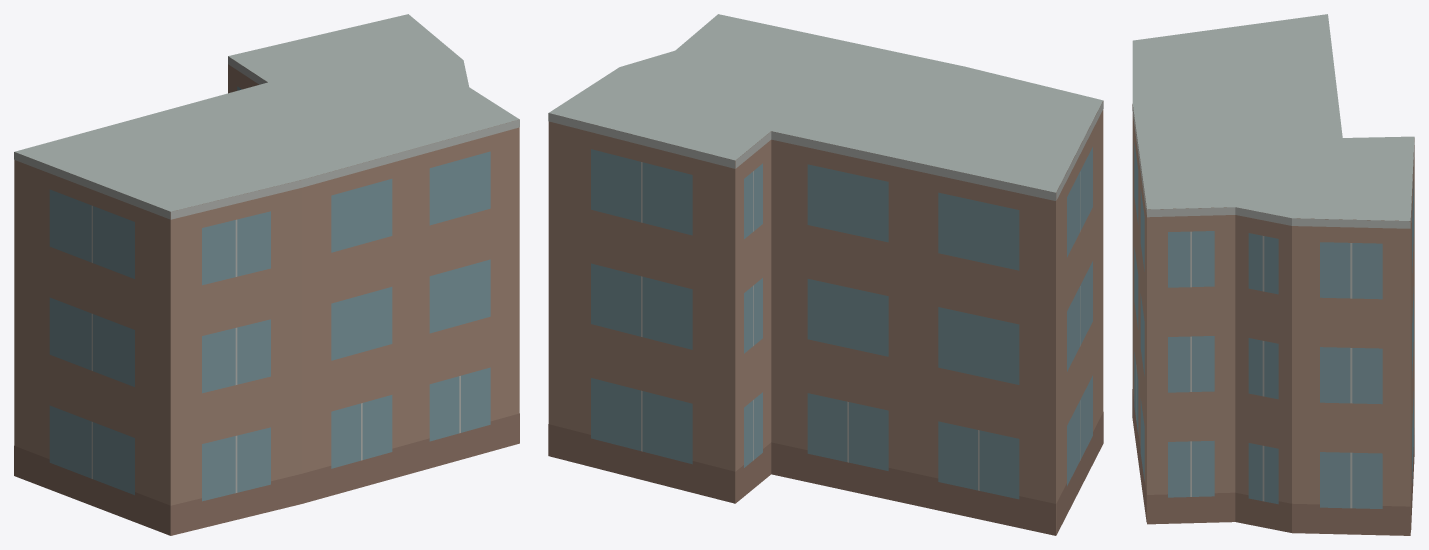
Rendered from survey-upis-32492407.glb.
The picture shows the model from 3 angles, left to right: view 1: azimuth 30°, elevation 25°; view 2: azimuth 150°, elevation 25°; view 3: azimuth 270°, elevation 25°; orthographic projection. The views are drawn at different scales.
Visible parts, largest first — view 1: survey-upis-32492407.tmp; view 2: survey-upis-32492407.tmp; view 3: survey-upis-32492407.tmp.
Boxes of the visible parts, <box> form: survey-upis-32492407.tmp: <box>14,14,519,535</box>; survey-upis-32492407.tmp: <box>548,14,1103,535</box>; survey-upis-32492407.tmp: <box>1132,14,1414,535</box>.
Bounding box in the file's own units: 13.97 × 9.9 × 8.05.
